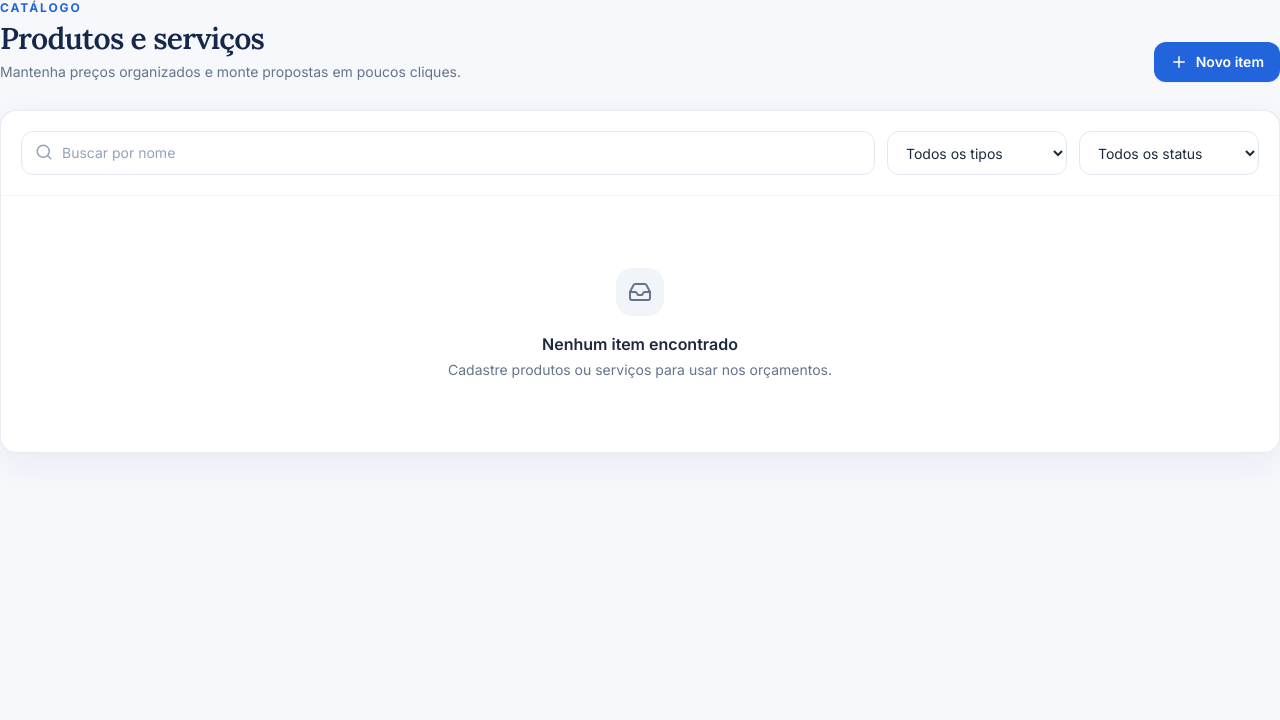
ProductsPage › erro conhecido em name aparece no campo, com aria-invalid, sem toast global
Click the button "Novo item" at [1217, 62], box [1154,42,1279,82]
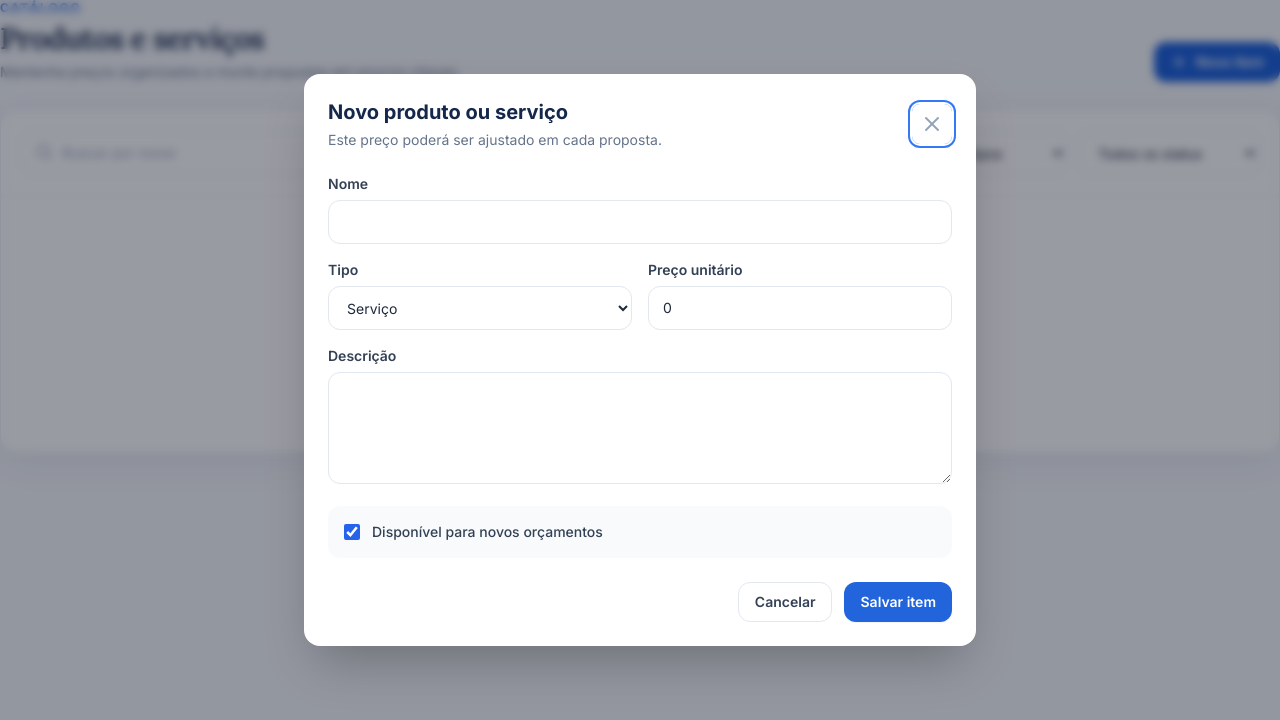
Type "Produto Teste" into the field labelled "Nome" at [640, 222], box [328,200,952,244]
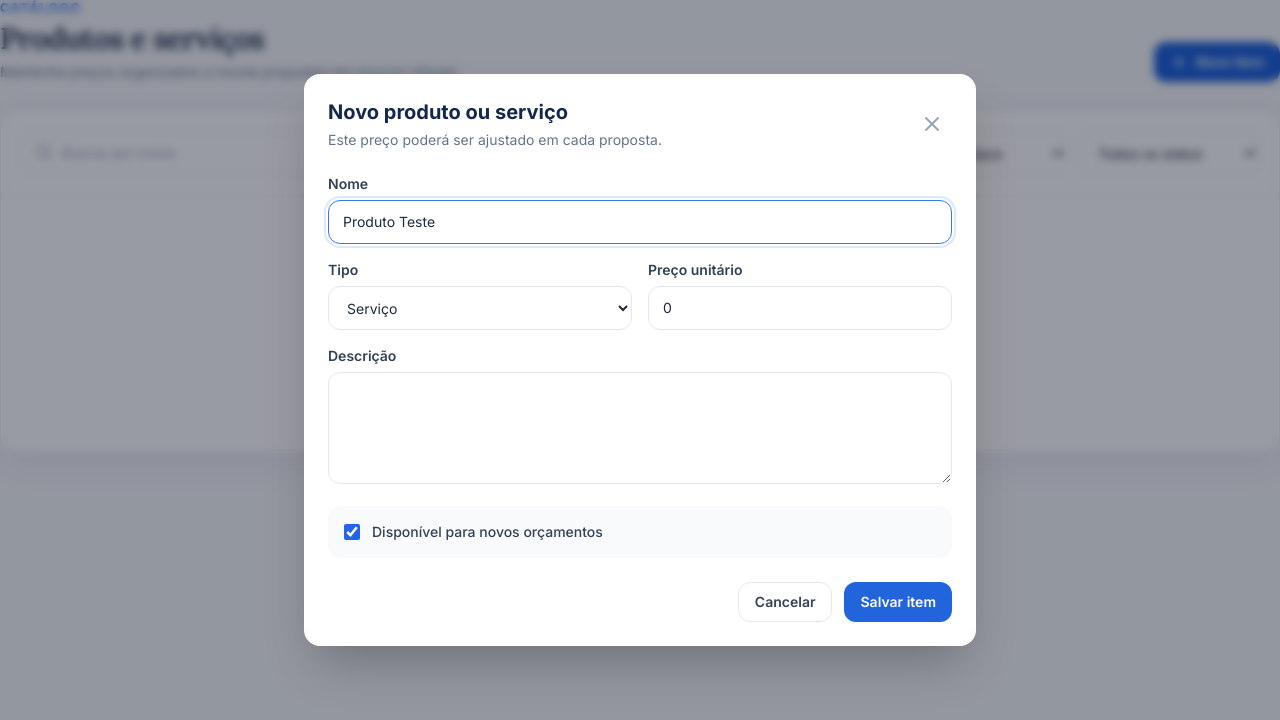
Click the button "Salvar item" at [898, 602], box [844,582,952,622]
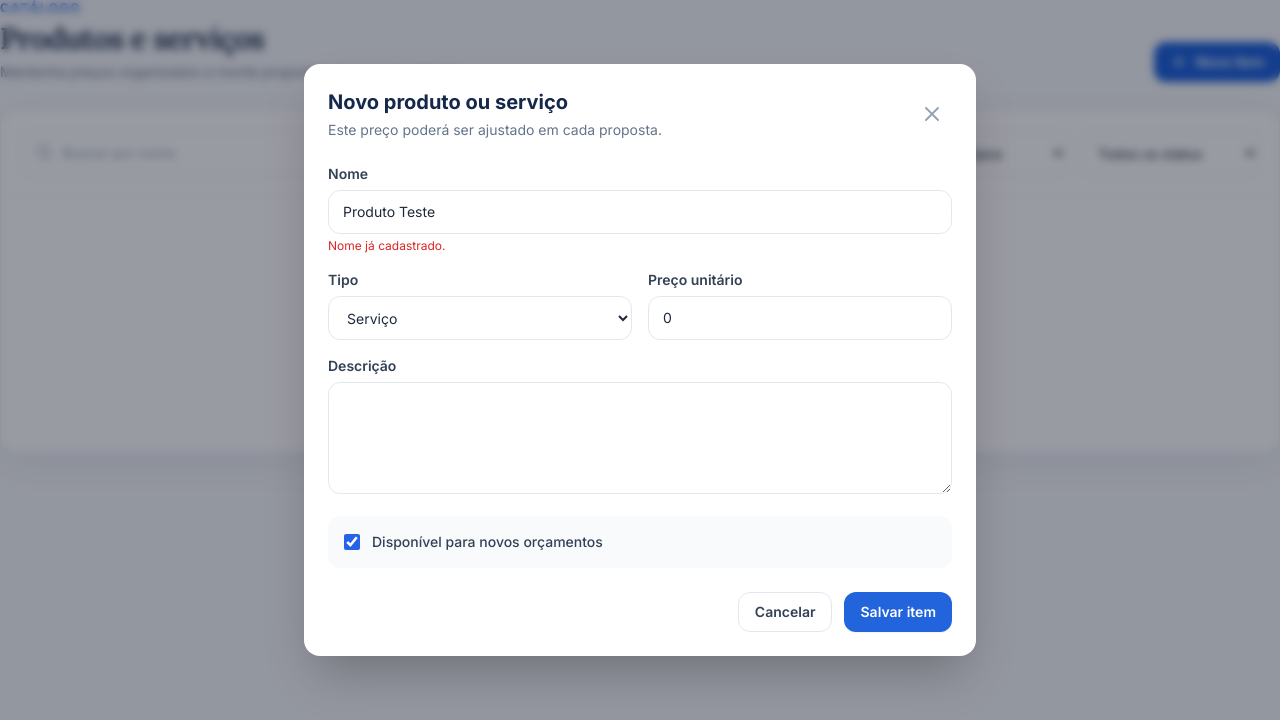
Now the text "Nome já cadastrado." is shown, box [328,238,446,253]
